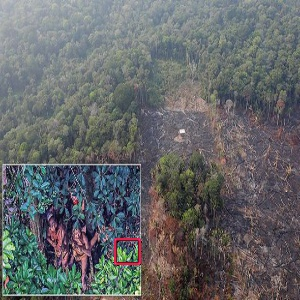square: (3, 164, 142, 296), (114, 237, 141, 264)
